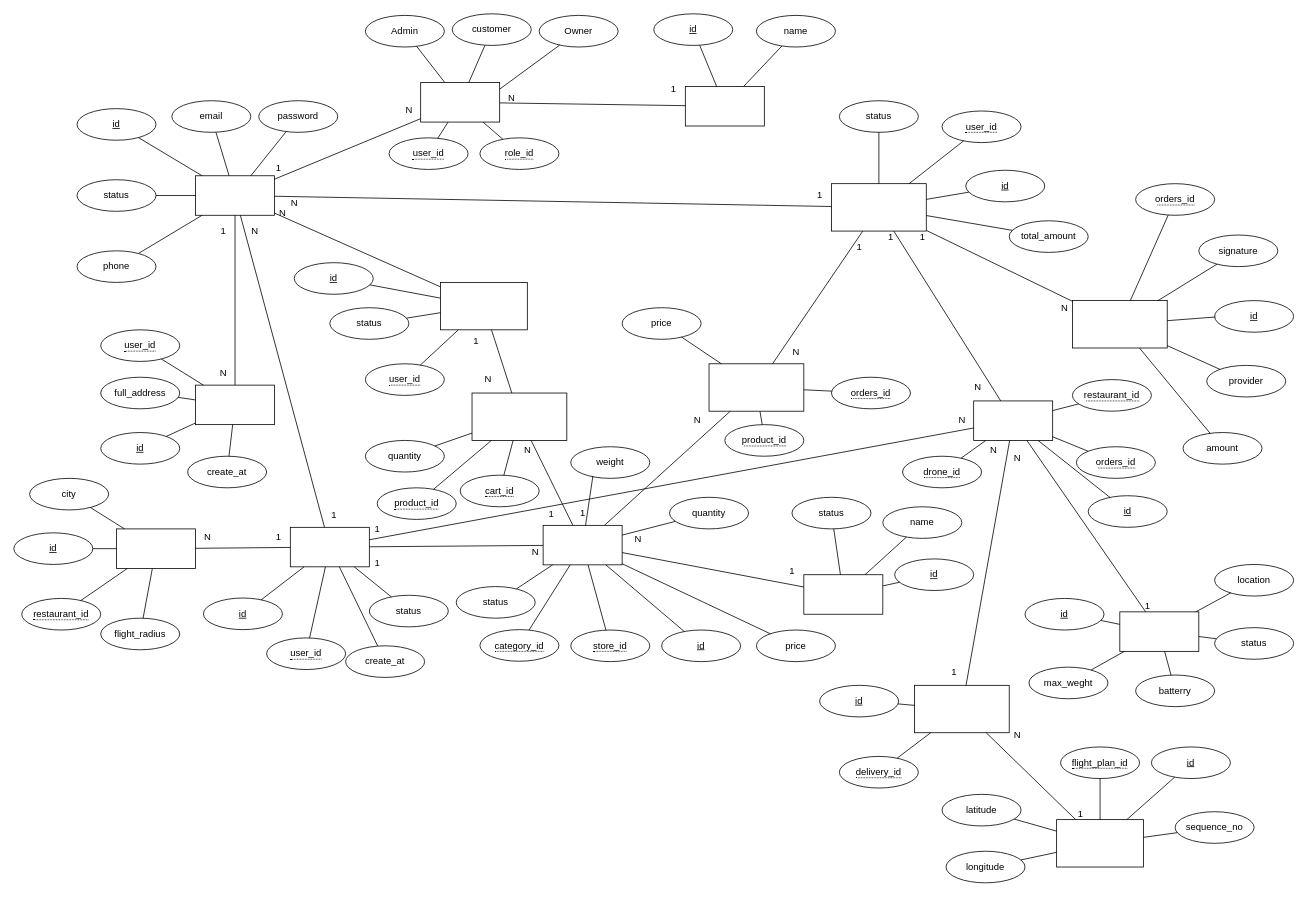
Image size: 1307x897. Some labels were removed from this diagram. The centre of each missing label's shape, as x and y in pixels:
"cart" goes at [483,306].
"cart_items" goes at [519,416].
"delivery" goes at [1013,420].
"drone" goes at [1159,631].
"flight_plan" goes at [961,709].
"flight_plan_point" goes at [1100,843].
"oders_items" goes at [756,387].
"orders" goes at [878,207].
"payment" goes at [1119,324].
"product" goes at [582,545].
"product_category" goes at [843,594].
"restaurant" goes at [329,547].
"restaurant address" goes at [156,548].
"roles" goes at [724,106].
"user_address" goes at [235,404].
"user_role" goes at [460,102].
"users" goes at [235,195].
